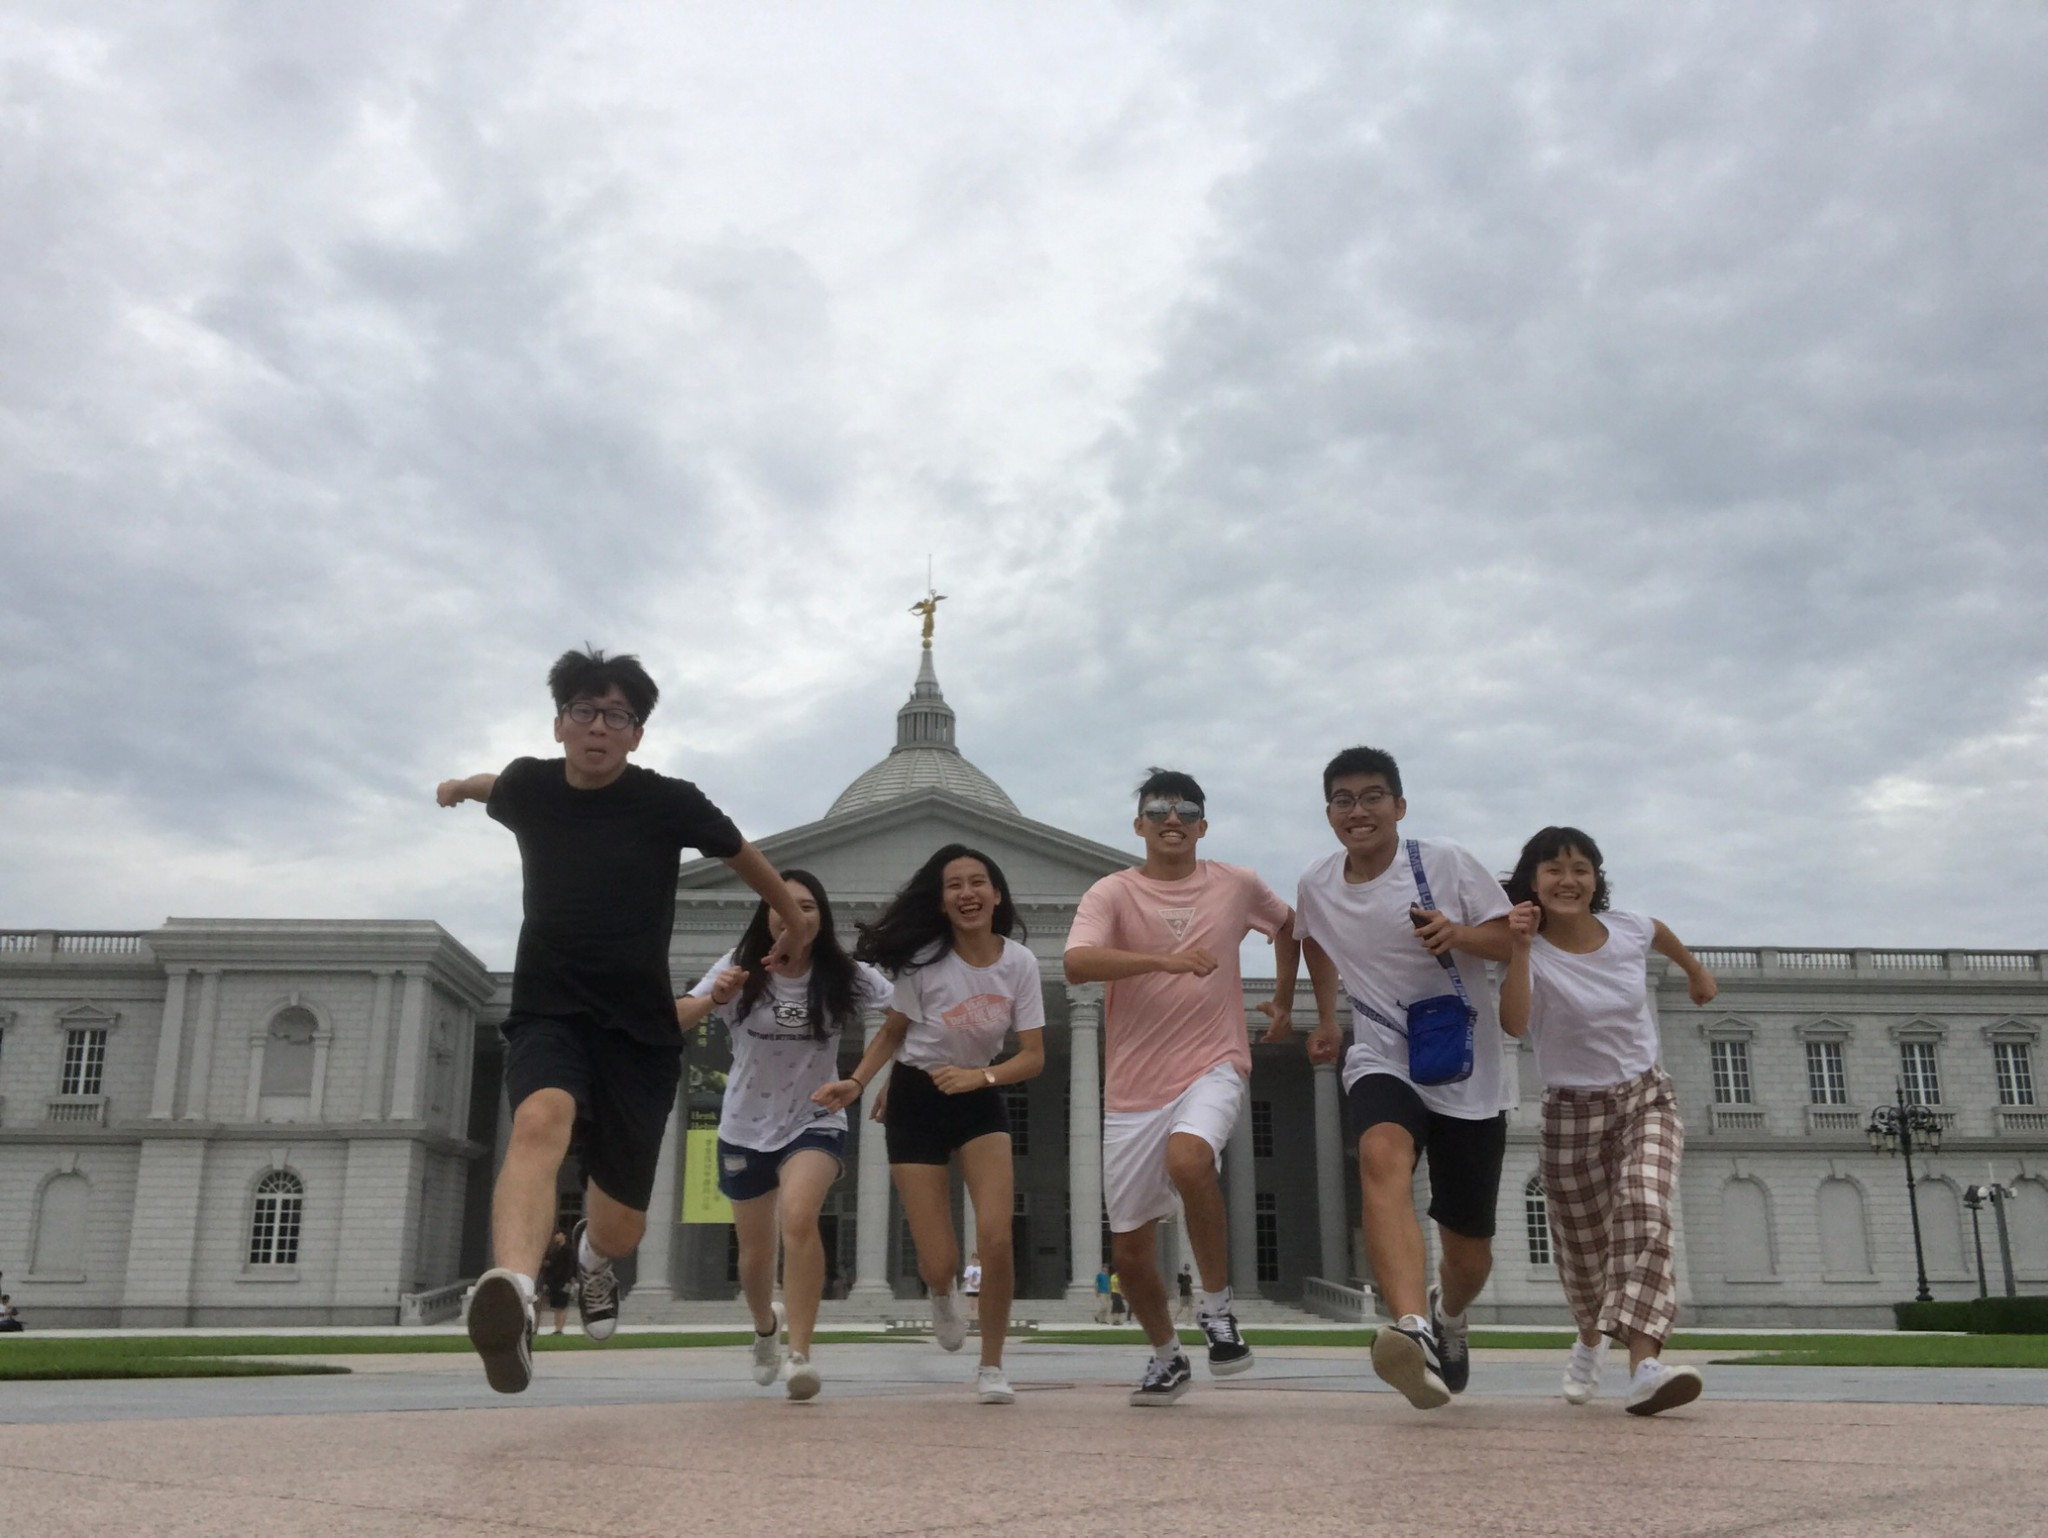people: (1299, 744, 1522, 1423), (478, 647, 652, 1382), (1507, 832, 1716, 1444), (1075, 767, 1249, 1414), (881, 856, 1043, 1406), (713, 859, 860, 1441), (546, 1220, 578, 1338)
